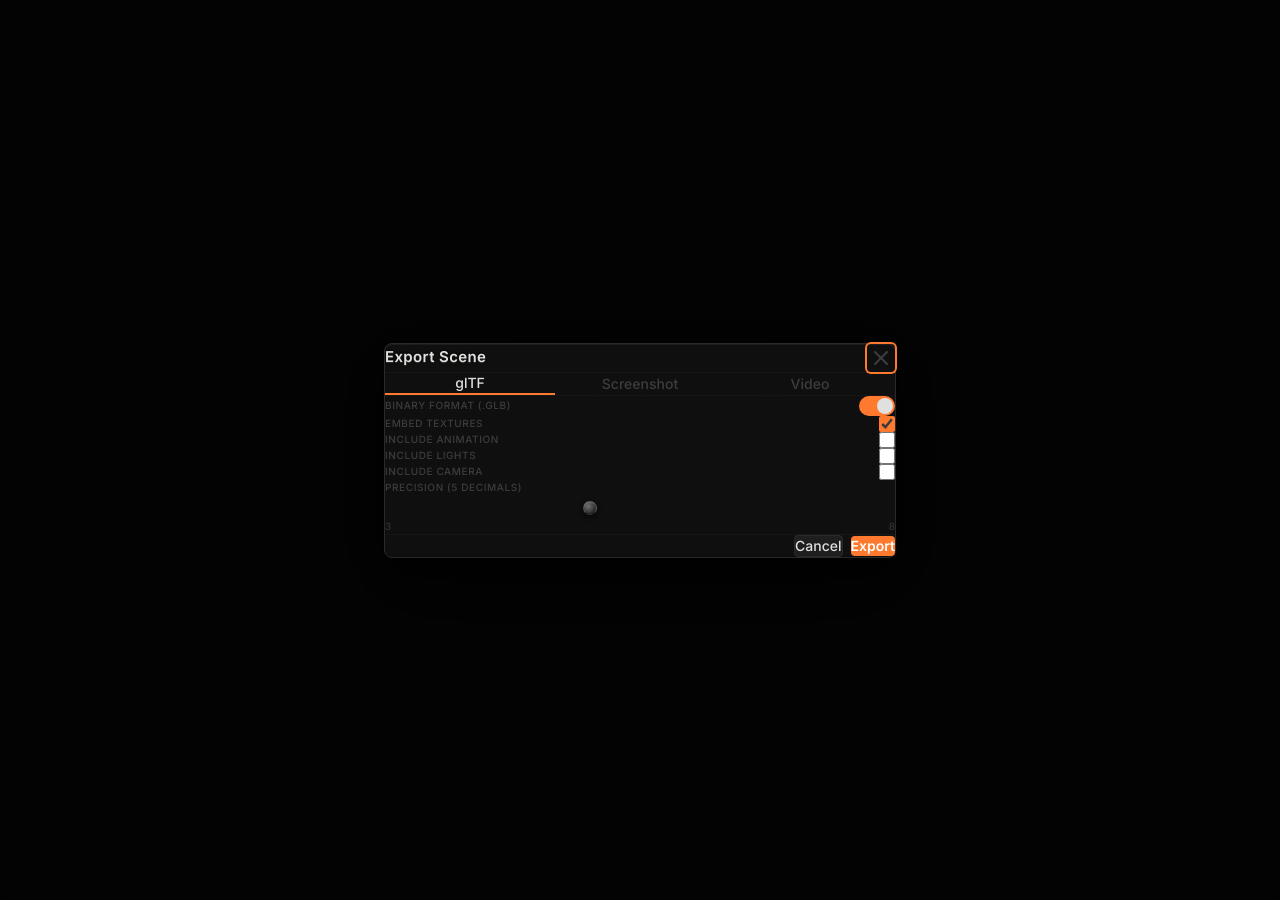
ExportDialog › clicking Screenshot tab switches to screenshot panel
Step 1. Click the tab "Screenshot" → (640,384), box [555, 372, 725, 394]
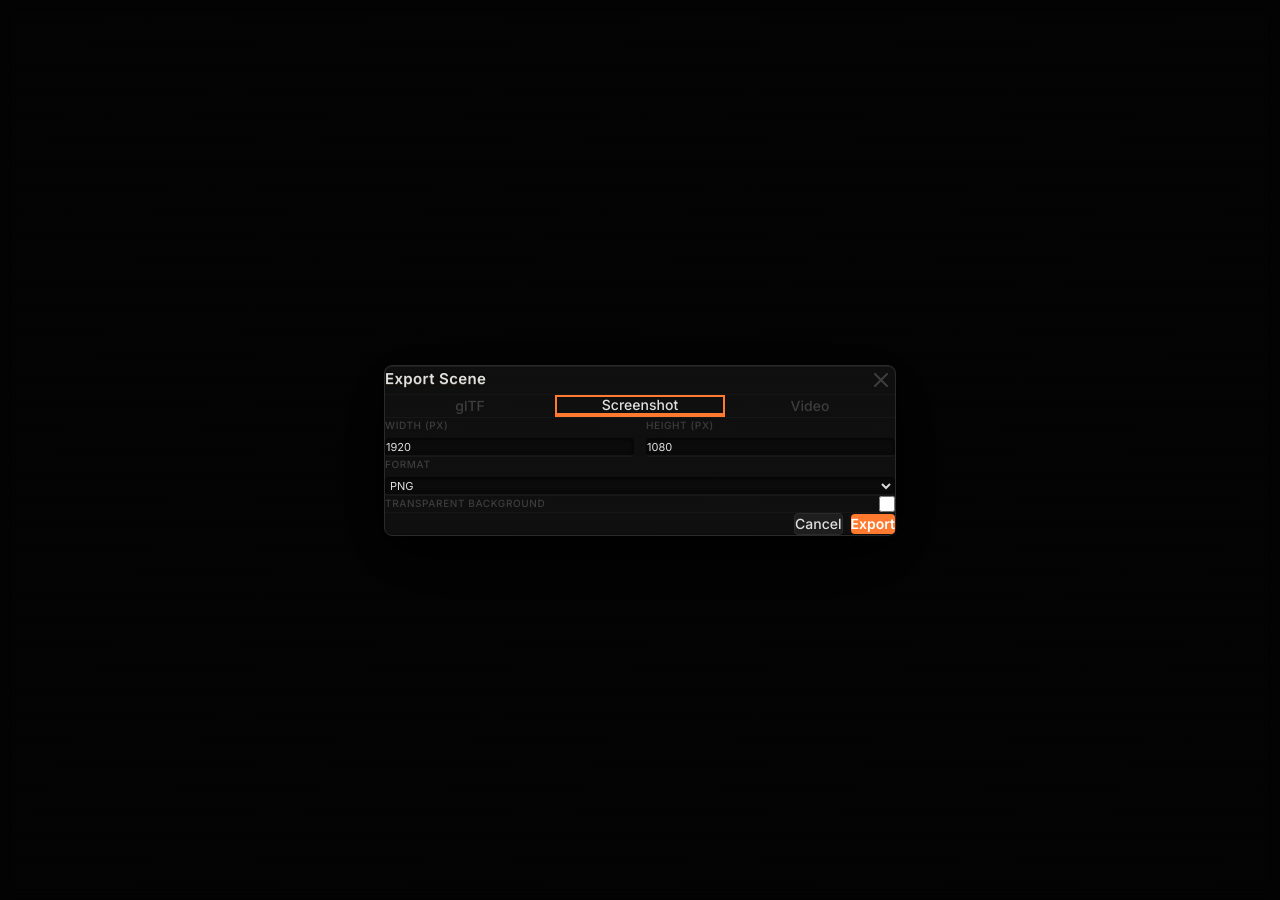
Now the number field named "Screenshot width" is shown, box [385, 438, 634, 456]
Now the number field named "Screenshot height" is shown, box [646, 438, 895, 456]
